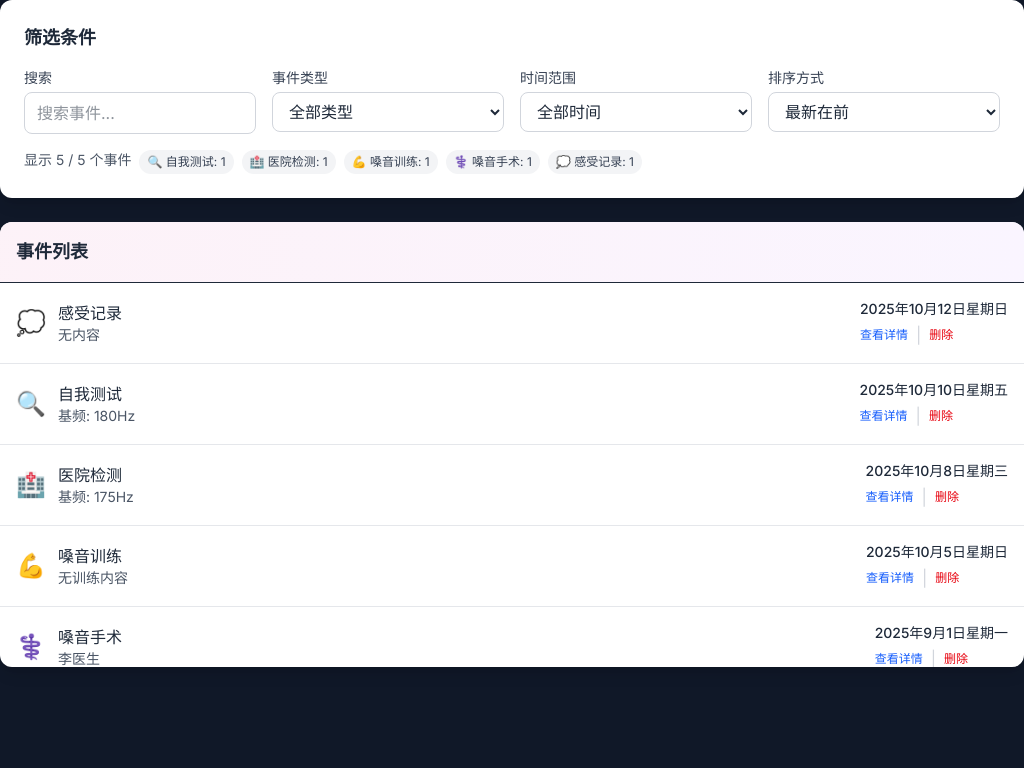
Test: EventManager 组件集成测试 › 搜索功能 › 应该能够搜索医院名称
Type "北京协和医院" into the field with placeholder "搜索事件..." at (140, 113), box left=24, top=92, right=256, bottom=134
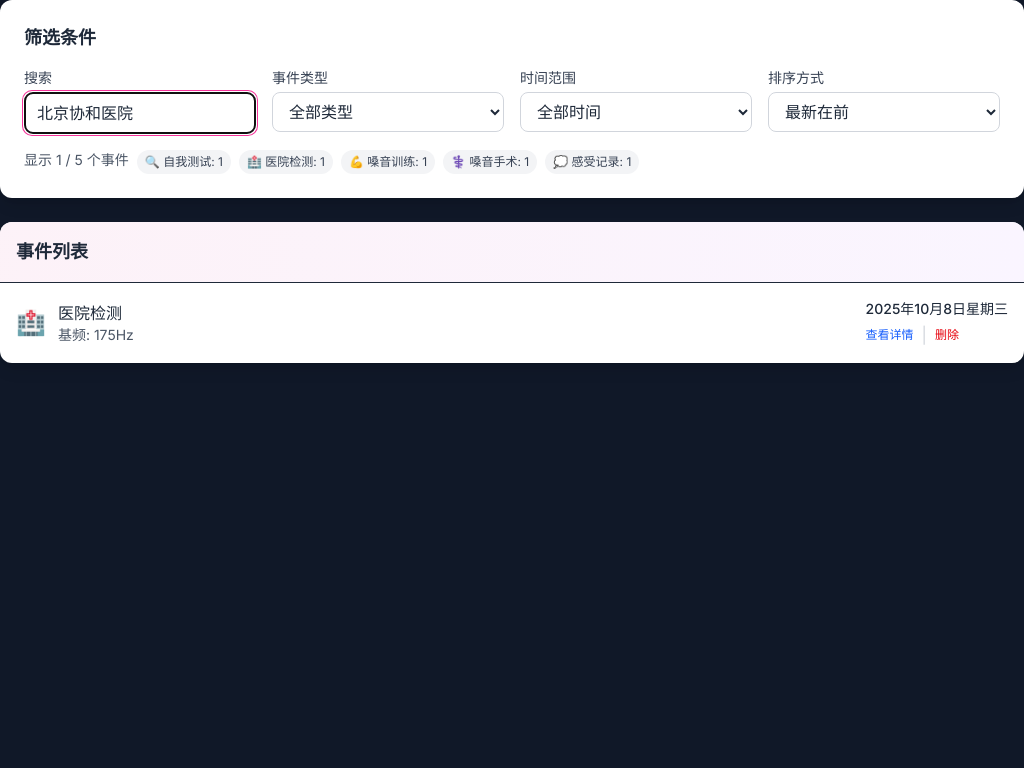
Expected: the heading "医院检测" is shown, left=58, top=303, right=122, bottom=323
Now the text "显示 1 / 5 个事件" is shown, box left=24, top=150, right=129, bottom=174
